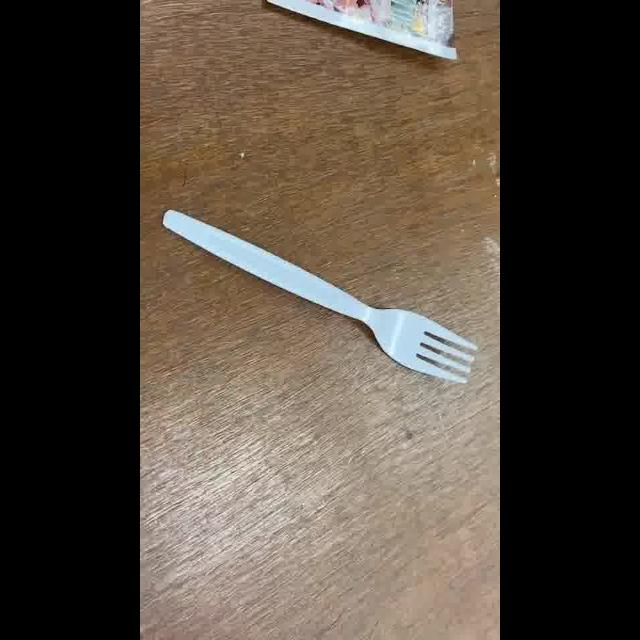plastic_cultery: (162, 205, 483, 392)
